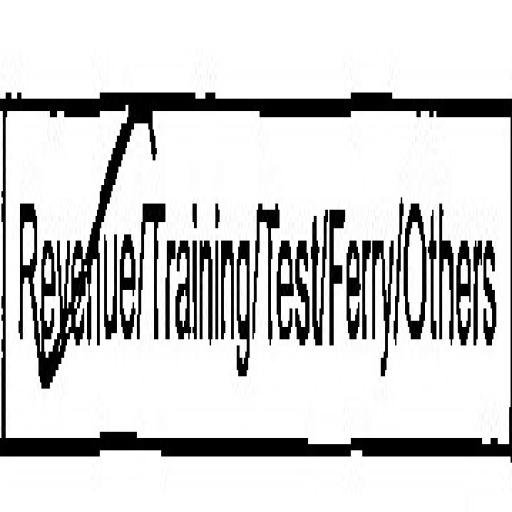check: (4, 0, 141, 512)
